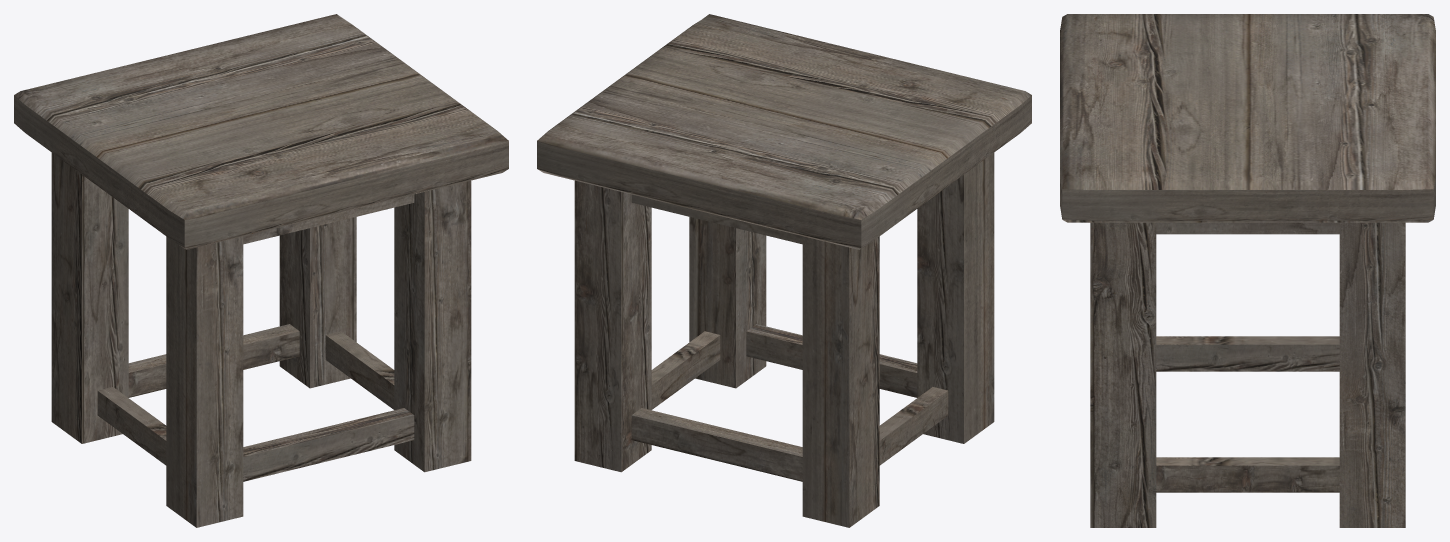
File: stool_square_fbx.FBX
3 renders of one model, left to right at view 1: azimuth 30°, elevation 25°; view 2: azimuth 150°, elevation 25°; view 3: azimuth 270°, elevation 25°, orthographic. The views are drawn at different scales.
Parts seen in each view (by area): view 1: stool_square; view 2: stool_square; view 3: stool_square.
Boxes of the visible parts, x1=… form: stool_square: x1=14, y1=14, x2=508, y2=527; stool_square: x1=537, y1=14, x2=1031, y2=527; stool_square: x1=1060, y1=14, x2=1435, y2=527.
Bounding box in the file's own units: 70.45 × 64.27 × 67.41.
